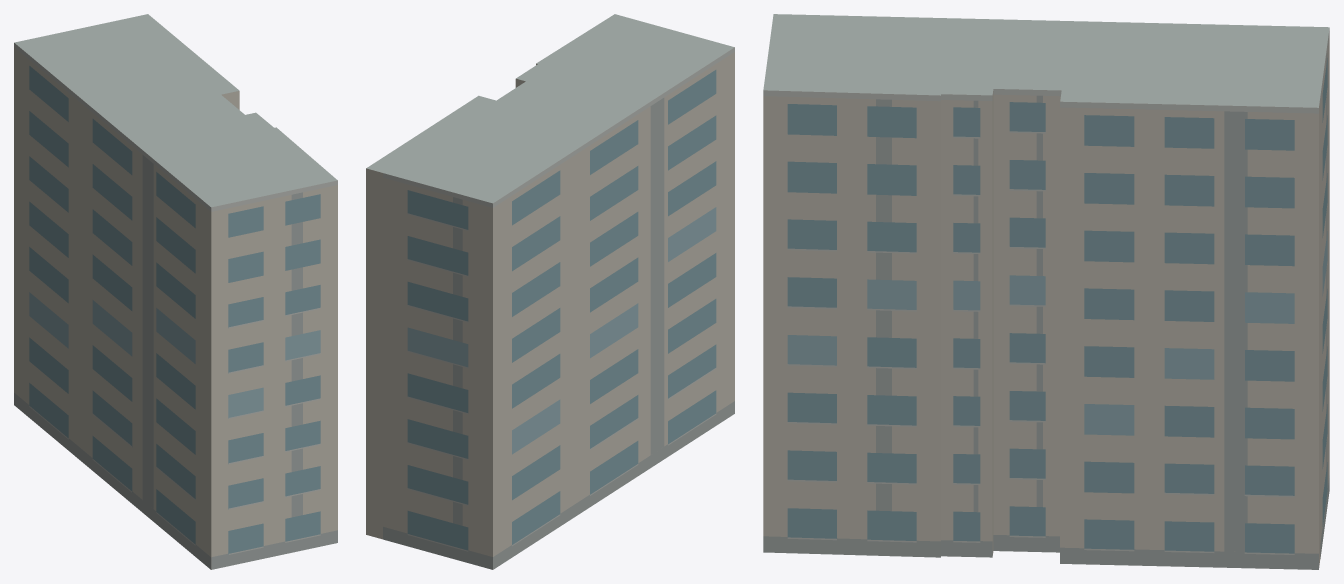
The model's file is survey-upis-32762197.glb.
3 renders of one model, left to right at view 1: azimuth 30°, elevation 25°; view 2: azimuth 150°, elevation 25°; view 3: azimuth 270°, elevation 25°, orthographic. The views are drawn at different scales.
Parts seen in each view (by area): view 1: survey-upis-32762197.tmp; view 2: survey-upis-32762197.tmp; view 3: survey-upis-32762197.tmp.
Part boxes in pixels (box(x1,y1,x2,y2)): survey-upis-32762197.tmp: box(14, 14, 337, 569); survey-upis-32762197.tmp: box(366, 14, 734, 569); survey-upis-32762197.tmp: box(763, 14, 1329, 569).
Bounding box in the file's own units: 8.55 × 19.6 × 21.78.
